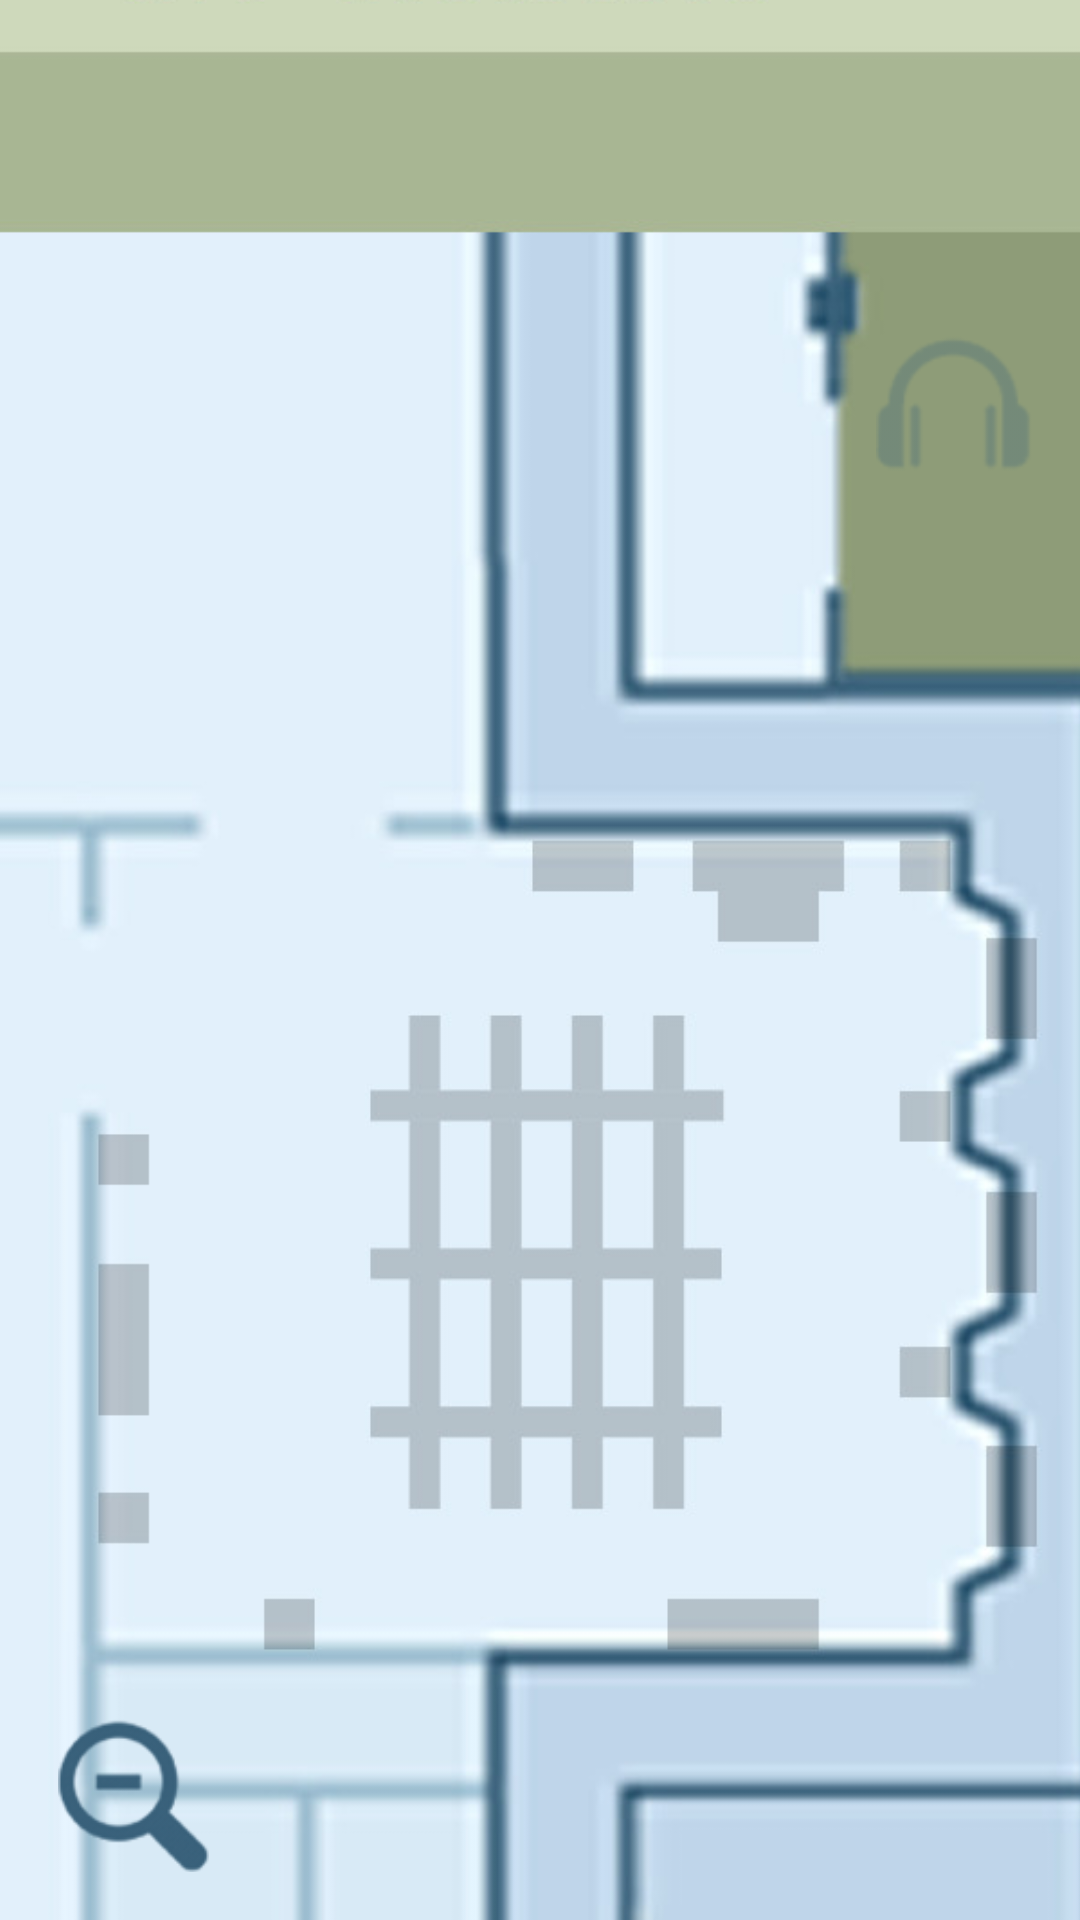

Named icons in this screenshot (1080 × 1920) and their centers, (x=x, y=y):
Podcast Inactive: (x=952, y=404)
Zoom Out: (x=138, y=1795)
